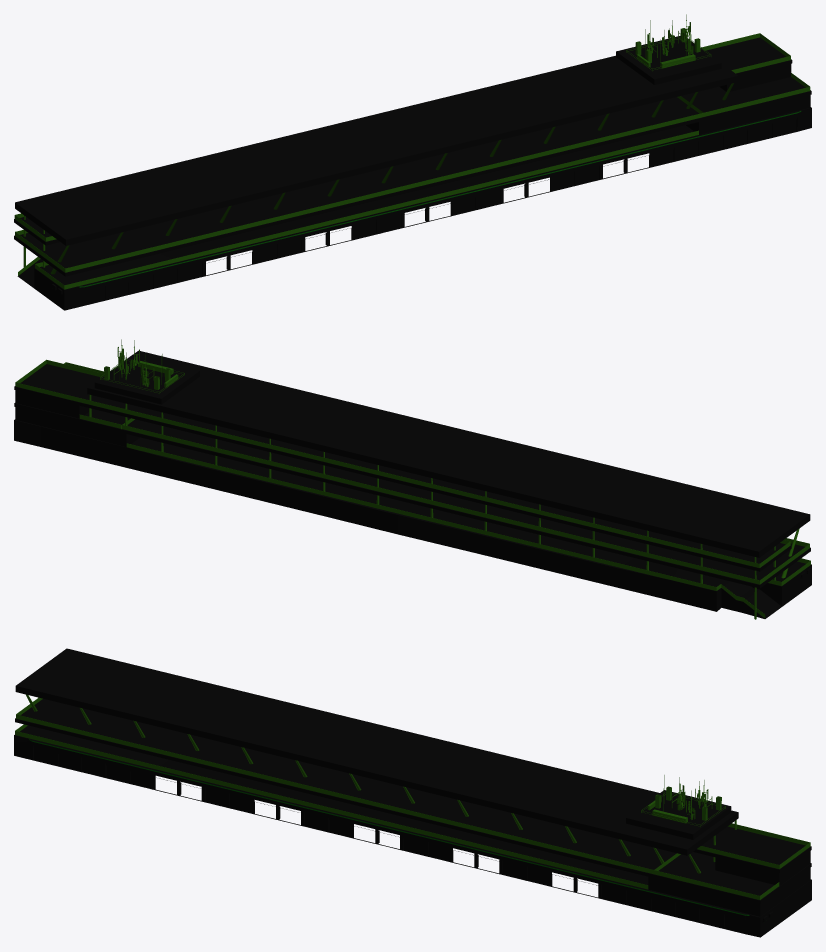
The model's file is T2_Pit_Building.fbx.
The picture shows the model from 3 angles, top to bottom: view 1: azimuth 30°, elevation 25°; view 2: azimuth 150°, elevation 25°; view 3: azimuth 330°, elevation 25°; orthographic projection.
Parts seen in each view (by area): view 1: T2_Pit_Building_Main, T2_Pit_Building._Glass, T2_Pit_Building_TOWERS, T2_Pit_Building_Pillars1B; view 2: T2_Pit_Building_Main, T2_Pit_Building._Glass, T2_Pit_Building_TOWERS, T2_Pit_Building_Pillars1B; view 3: T2_Pit_Building_Main, T2_Pit_Building._Glass, T2_Pit_Building_TOWERS, T2_Pit_Building_Pillars1A.
Boxes of the visible parts, x1=… form: T2_Pit_Building_Main: x1=14, y1=35, x2=811, y2=310; T2_Pit_Building._Glass: x1=14, y1=33, x2=810, y2=289; T2_Pit_Building_TOWERS: x1=626, y1=14, x2=711, y2=71; T2_Pit_Building_Pillars1B: x1=23, y1=166, x2=393, y2=274; T2_Pit_Building_Main: x1=14, y1=350, x2=811, y2=618; T2_Pit_Building._Glass: x1=15, y1=359, x2=810, y2=618; T2_Pit_Building_TOWERS: x1=100, y1=339, x2=184, y2=393; T2_Pit_Building_Pillars1B: x1=430, y1=478, x2=799, y2=619; T2_Pit_Building_Main: x1=14, y1=648, x2=811, y2=937; T2_Pit_Building._Glass: x1=15, y1=697, x2=810, y2=899; T2_Pit_Building_TOWERS: x1=641, y1=775, x2=725, y2=827; T2_Pit_Building_Pillars1A: x1=403, y1=786, x2=736, y2=873.
Size of the model in its own units: 95.81 by 13.64 by 11.66.
